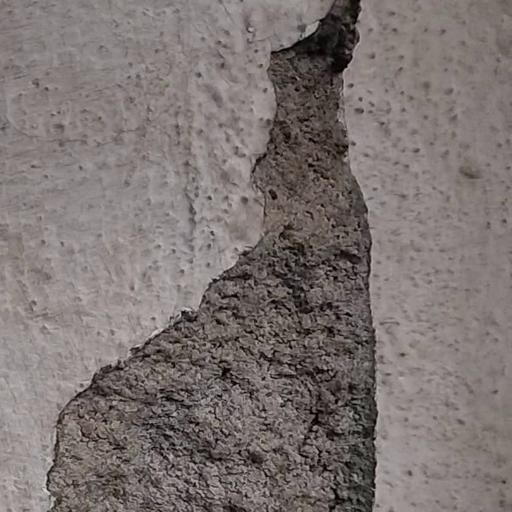spalling: (46, 0, 384, 512)
